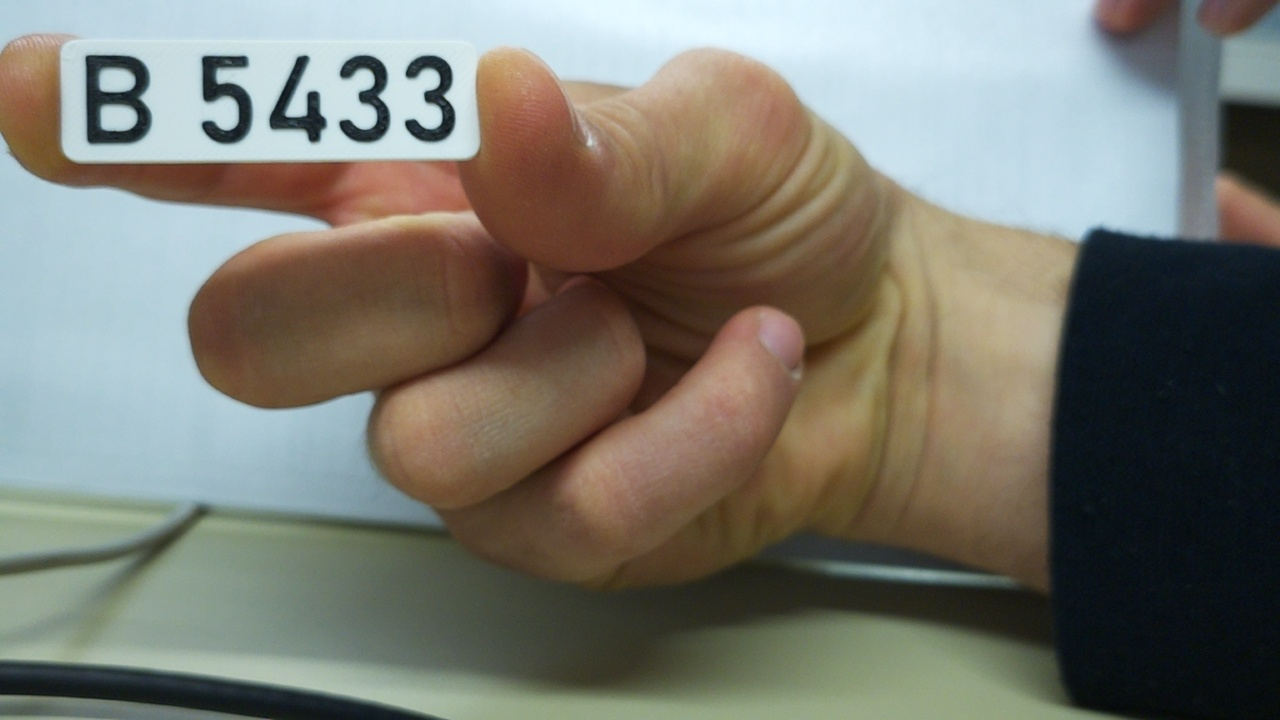license_plate: (55, 35, 483, 168)
